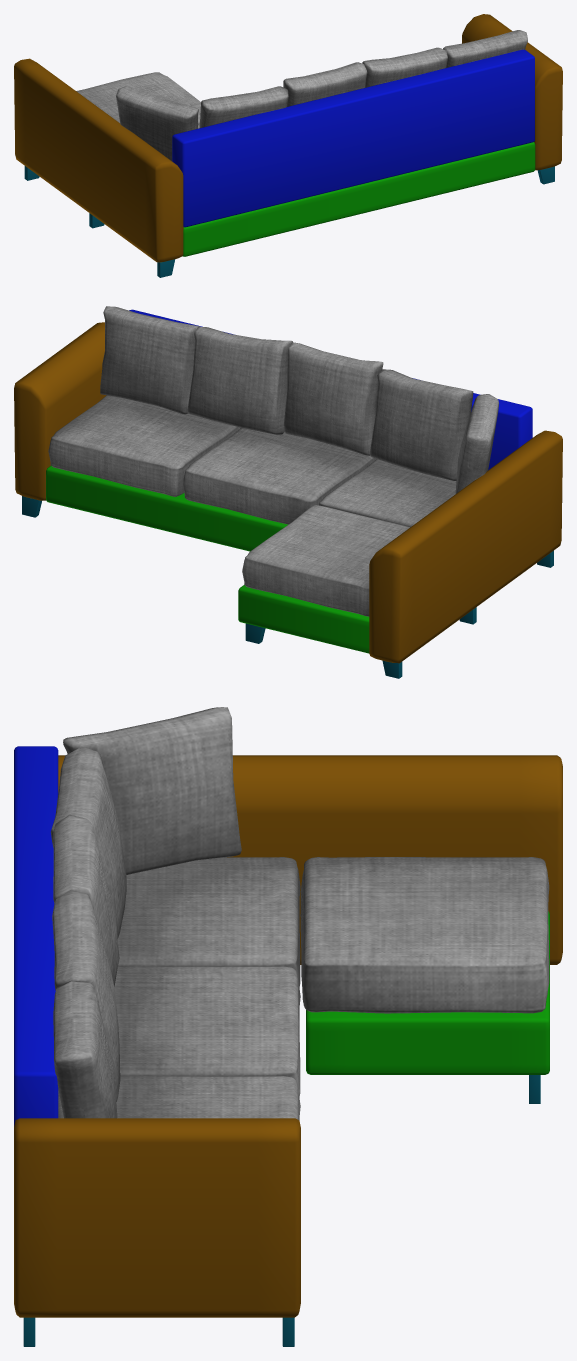
The model's file is Sofa 4.FBX.
3 views of the same model, one above another, from view 1: azimuth 30°, elevation 25°; view 2: azimuth 150°, elevation 25°; view 3: azimuth 270°, elevation 25° (orthographic). The views are drawn at different scales.
Parts seen in each view (by area): view 1: Sofa 4; view 2: Sofa 4; view 3: Sofa 4.
Boxes of the visible parts, x1=… form: Sofa 4: x1=14, y1=14, x2=562, y2=277; Sofa 4: x1=14, y1=306, x2=562, y2=678; Sofa 4: x1=14, y1=707, x2=562, y2=1346.
Size of the model in its own units: 3.41 by 2.08 by 1.23.
